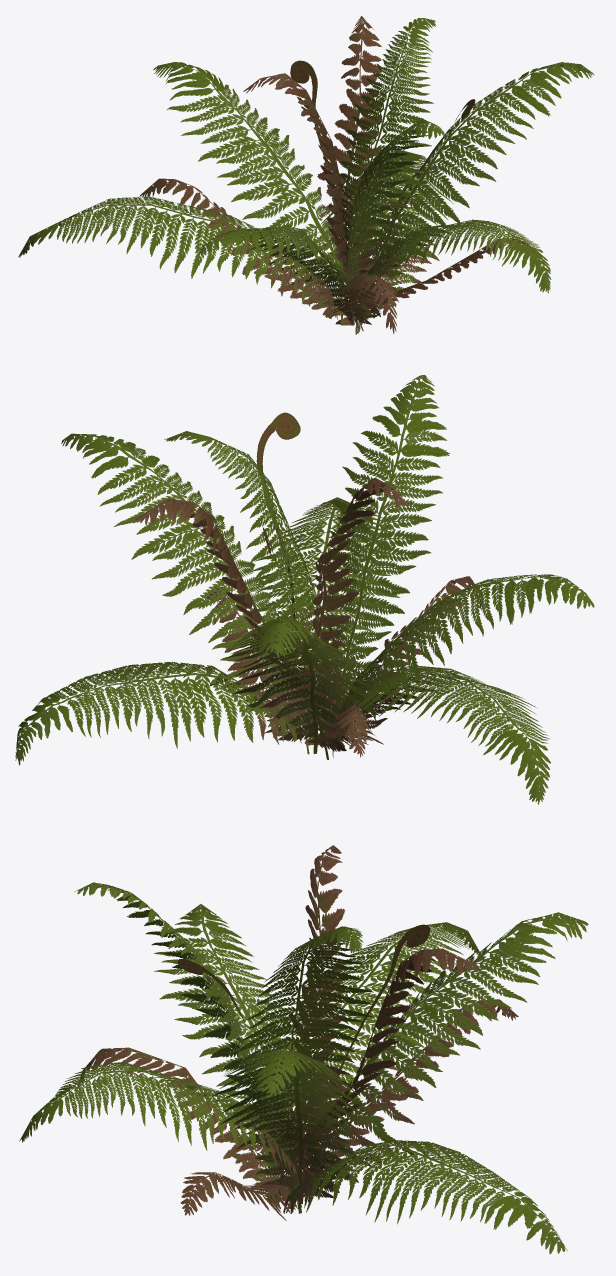
File: MSH_fwOF_Fern_01.fbx
3 views of the same model, one above another, from view 1: azimuth 30°, elevation 25°; view 2: azimuth 150°, elevation 25°; view 3: azimuth 270°, elevation 25° (orthographic). The views are drawn at different scales.
Visible parts, largest first — view 1: MSH_fwOF_Fern_01; view 2: MSH_fwOF_Fern_01; view 3: MSH_fwOF_Fern_01.
Part boxes in pixels (x1,y1,x2,y2): MSH_fwOF_Fern_01: (18, 16, 594, 334); MSH_fwOF_Fern_01: (15, 375, 594, 804); MSH_fwOF_Fern_01: (19, 845, 588, 1253).
Size of the model in its own units: 1.09 by 0.5659 by 0.8988.
